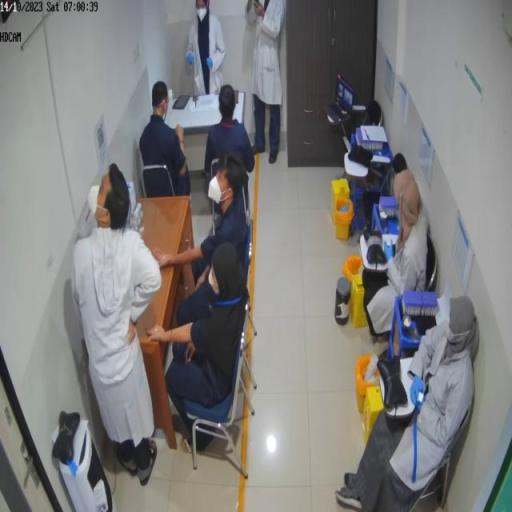person: (72, 164, 167, 485), (336, 297, 479, 509), (147, 243, 249, 440), (155, 155, 250, 296), (358, 163, 430, 339), (246, 2, 287, 165), (140, 83, 193, 197), (204, 86, 256, 186), (186, 1, 227, 97)
